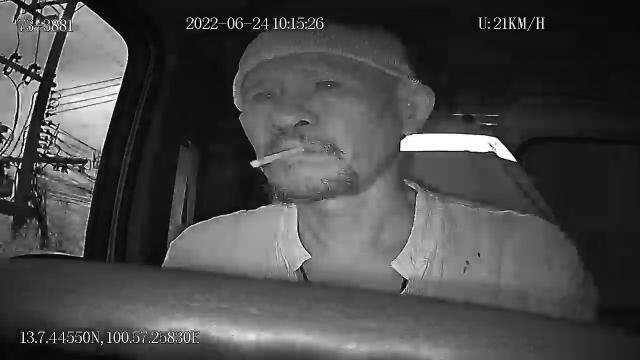SafeDriving: (308, 67, 351, 99)
Smoking: (247, 146, 303, 168)
